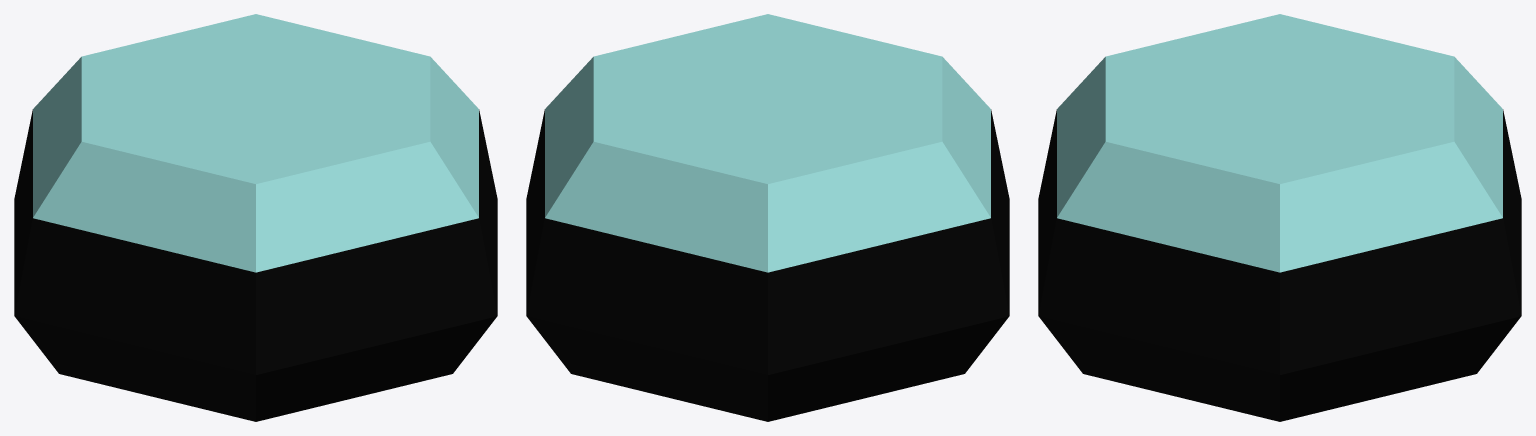
File: Medium_Rock.fbx
The picture shows the model from 3 angles, left to right: view 1: azimuth 30°, elevation 25°; view 2: azimuth 150°, elevation 25°; view 3: azimuth 270°, elevation 25°; orthographic projection.
Visible parts, largest first — view 1: Snow001, Rock; view 2: Snow001, Rock; view 3: Snow001, Rock.
Part boxes in pixels (bbox=[...]): Snow001: bbox=[33, 14, 478, 272]; Rock: bbox=[14, 109, 497, 421]; Snow001: bbox=[545, 14, 990, 272]; Rock: bbox=[526, 109, 1009, 421]; Snow001: bbox=[1057, 14, 1502, 272]; Rock: bbox=[1038, 109, 1521, 421].
Size of the model in its own units: 1.01 by 0.4547 by 0.8776.
